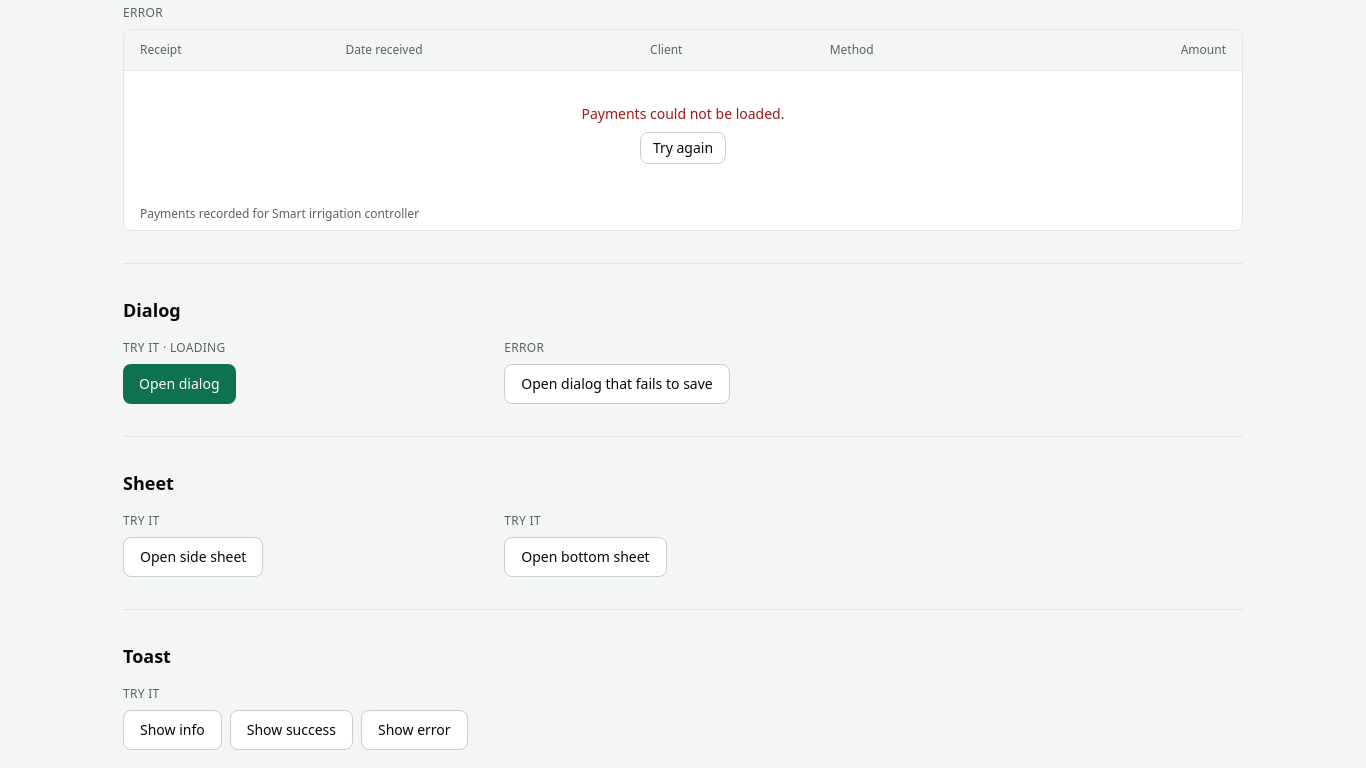
it: /dev/components › saves from the dialog, shows the loading state, then a success toast
(page scrolled)
What coordinates should you click on to do the following:
click the button "Open dialog"
I would click on:
 (179, 384)
Its box is [123,364,236,404].
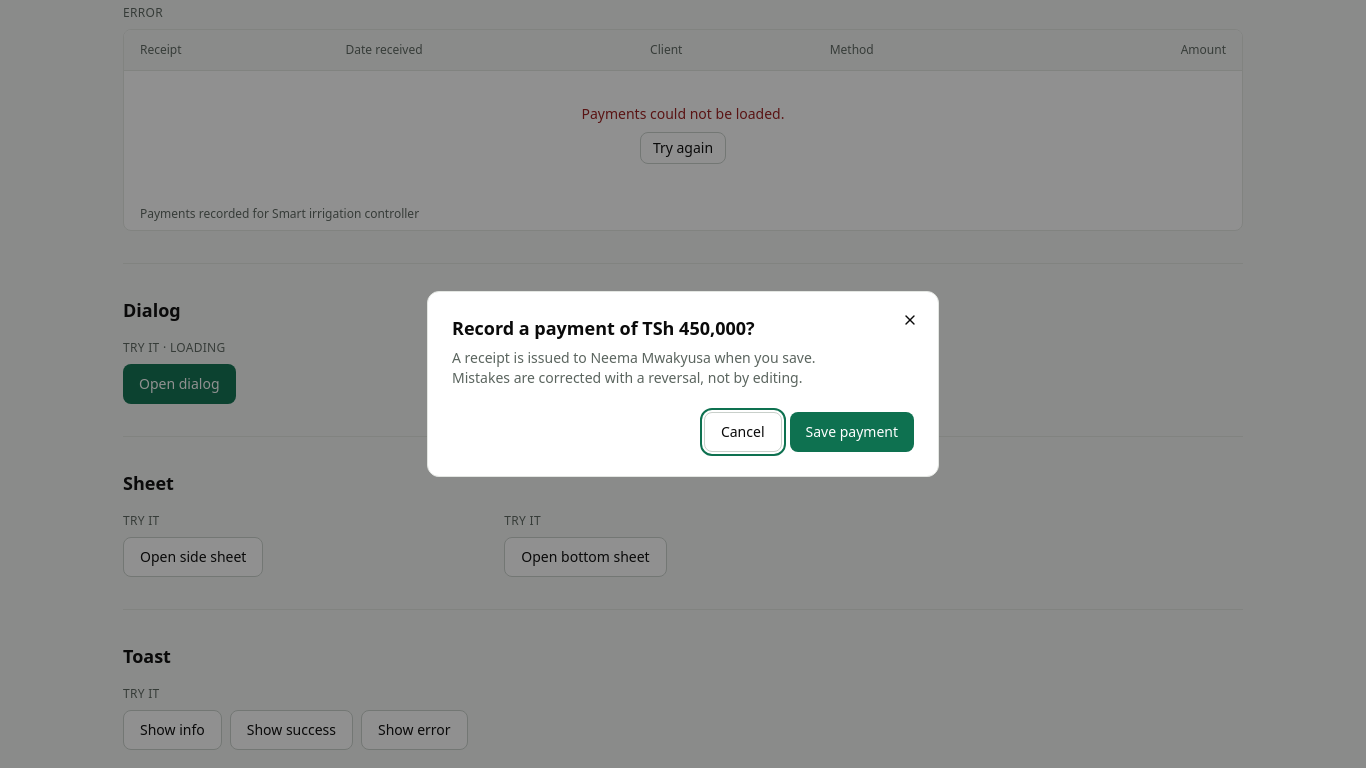
What coordinates should you click on to do the following:
click the button "Save payment"
I would click on:
 (852, 432)
Its box is [790,412,914,452].
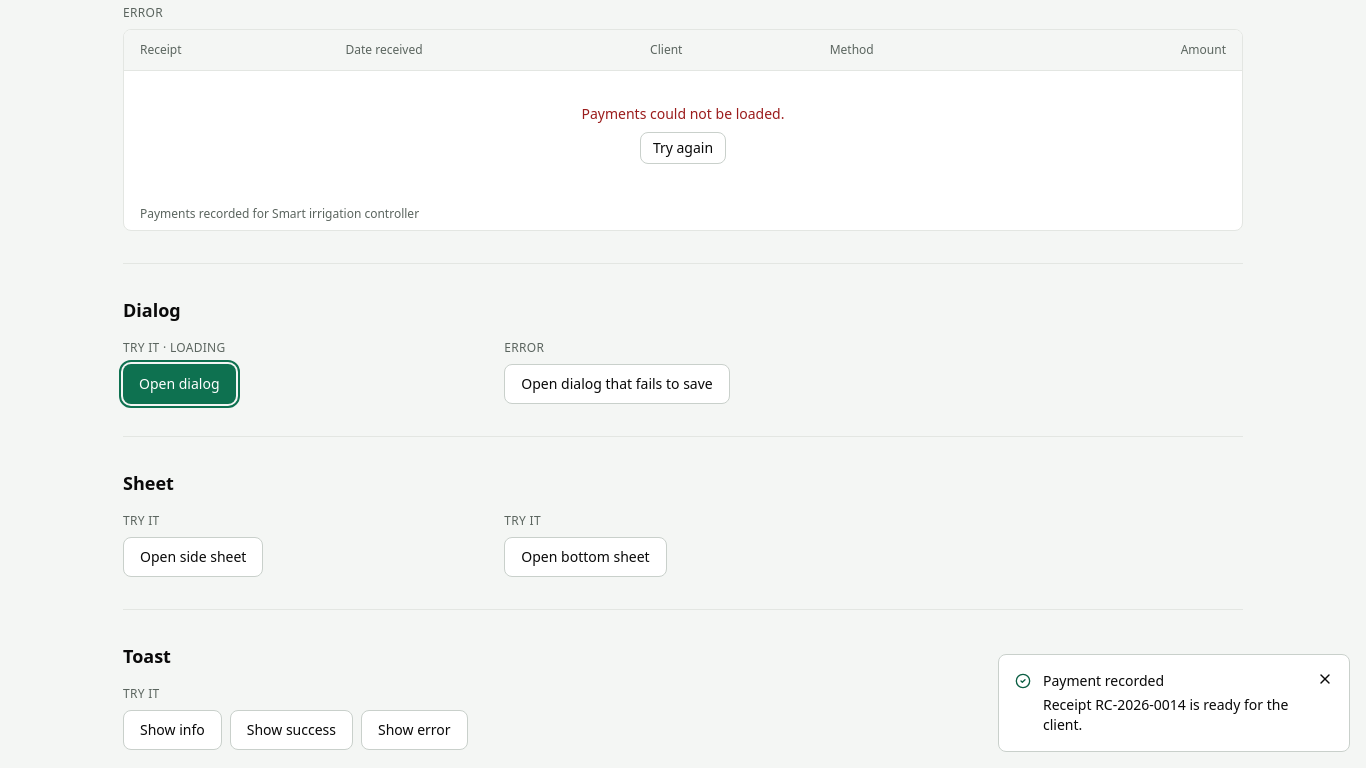
Check: the text "Payment recorded" is shown, box [1043,671,1164,690]
Check: the dialog is gone
